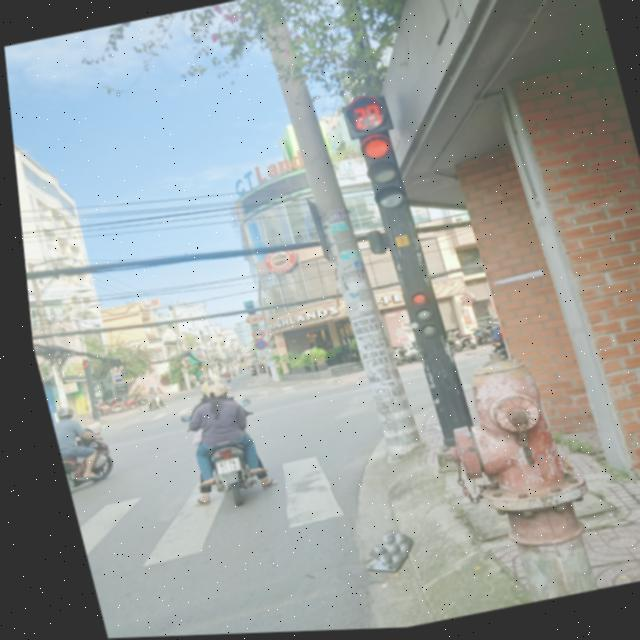Red: (349, 132, 408, 223), (393, 286, 440, 345)
